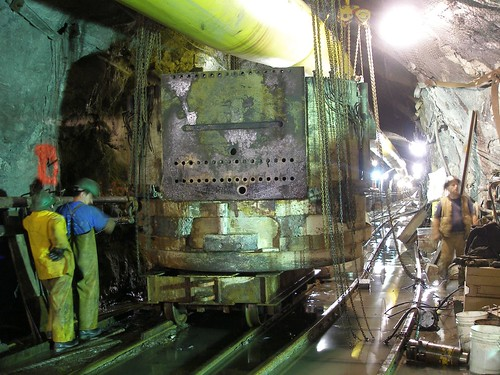person hardhat: (58, 174, 122, 342), (20, 189, 82, 351), (430, 174, 481, 292)
